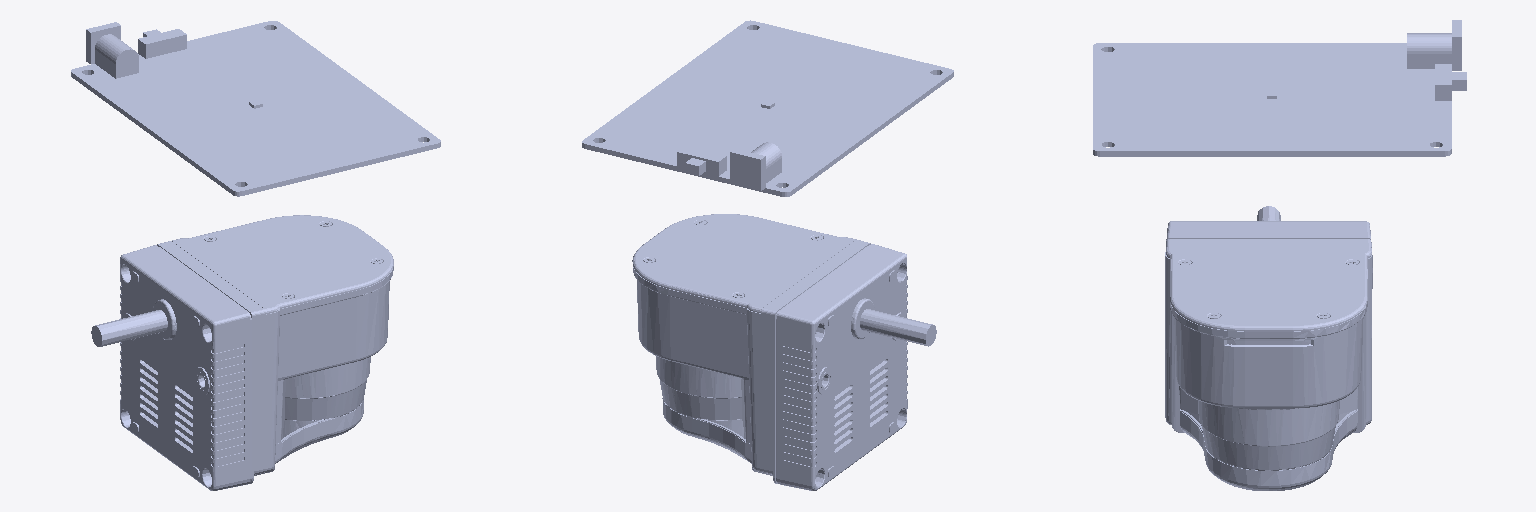
URDF robot description (srobot):
<robot
  name="srobot">
  <link
    name="base_link">
    <inertial>
      <origin
        xyz="-0.0862521575920466 1.57664490788578E-05 0.194624283901667"
        rpy="0 0 0" />
      <mass
        value="33.2741044624964" />
      <inertia
        ixx="1.54168237437275"
        ixy="8.41630492671114E-05"
        ixz="-0.0195161991959801"
        iyy="1.46715734443499"
        iyz="-3.81611683615727E-05"
        izz="0.61703616983001" />
    </inertial>
    <visual>
      <origin
        xyz="0 0 0"
        rpy="0 0 0" />
      <geometry>
        <mesh
          filename="package://srobot/meshes/base_link.STL" />
      </geometry>
      <material
        name="">
        <color
          rgba="0.752941176470588 0.752941176470588 0.752941176470588 1" />
      </material>
    </visual>
    <collision>
      <origin
        xyz="0 0 0"
        rpy="0 0 0" />
      <geometry>
        <mesh
          filename="package://srobot/meshes/base_link.STL" />
      </geometry>
    </collision>
  </link>
  <link
    name="base_scan">
    <inertial>
      <origin
        xyz="-0.0180076264461681 -9.1975517765297E-06 -0.00979838616911467"
        rpy="0 0 0" />
      <mass
        value="0.204546095137456" />
      <inertia
        ixx="1.80411577040283E-09"
        ixy="-2.92716590680799E-10"
        ixz="4.18096533096995E-10"
        iyy="1.68746981356662E-09"
        iyz="2.16004476187873E-10"
        izz="1.40520118912108E-09" />
    </inertial>
    <visual>
      <origin
        xyz="0 0 0"
        rpy="0 0 0" />
      <geometry>
        <mesh
          filename="package://srobot/meshes/base_scan.STL" />
      </geometry>
      <material
        name="">
        <color
          rgba="0.792156862745098 0.819607843137255 0.933333333333333 1" />
      </material>
    </visual>
    <collision>
      <origin
        xyz="0 0 0"
        rpy="0 0 0" />
      <geometry>
        <mesh
          filename="package://srobot/meshes/base_scan.STL" />
      </geometry>
    </collision>
  </link>
  <joint
    name="scan_joint"
    type="fixed">
    <origin
      xyz="0.1435 -0.001 -0.0109"
      rpy="3.1416 0 0" />
    <parent
      link="base_link" />
    <child
      link="base_scan" />
    <axis
      xyz="0 0 0" />
  </joint>
  <link
    name="imu_link">
    <inertial>
      <origin
        xyz="0.00562012085862895 0.00216740166295631 -0.000292591049908114"
        rpy="0 0 0" />
      <mass
        value="0.0150303013778878" />
      <inertia
        ixx="6.83280179880971E-07"
        ixy="-1.2832938740688E-06"
        ixz="-2.88988605151204E-07"
        iyy="2.5797993811447E-06"
        iyz="-1.45158034917182E-07"
        izz="3.19739448351713E-06" />
    </inertial>
    <visual>
      <origin
        xyz="0 0 0"
        rpy="0 0 0" />
      <geometry>
        <mesh
          filename="package://srobot/meshes/imu_link.STL" />
      </geometry>
      <material
        name="">
        <color
          rgba="0.792156862745098 0.819607843137255 0.933333333333333 1" />
      </material>
    </visual>
    <collision>
      <origin
        xyz="0 0 0"
        rpy="0 0 0" />
      <geometry>
        <mesh
          filename="package://srobot/meshes/imu_link.STL" />
      </geometry>
    </collision>
  </link>
  <joint
    name="imu_joint"
    type="fixed">
    <origin
      xyz="0.1265 0 0.0807"
      rpy="0 0 1.5708" />
    <parent
      link="base_link" />
    <child
      link="imu_link" />
    <axis
      xyz="0 0 0" />
  </joint>
  <link
    name="imu_frame" />
  <joint
    name="imuframe_joint"
    type="fixed">
    <origin
      xyz="0 0 0.068"
      rpy="0 0 0" />
    <parent
      link="base_link" />
    <child
      link="imu_frame" />
    <axis
      xyz="0 0 0" />
  </joint>
</robot>

--- Render facts (derived) ---
3 views of the same robot in one strip: view 1: azimuth 30°, elevation 25°; view 2: azimuth 150°, elevation 25°; view 3: azimuth 270°, elevation 25° (orthographic).
Model srobot with 4 links and 3 joints (3 fixed), rooted at base_link, posed every joint at zero.
Links seen in each view (by area): view 1: base_scan, imu_link; view 2: base_scan, imu_link; view 3: base_scan, imu_link.
Boxes of the visible links, box(x1,y1,x2,y2) form: base_scan: box(91, 215, 393, 490); imu_link: box(71, 21, 440, 196); base_scan: box(632, 214, 936, 490); imu_link: box(582, 20, 953, 196); base_scan: box(1165, 206, 1372, 490); imu_link: box(1093, 20, 1466, 156).
Size in the robot's own frame: 0.1002 by 0.1095 by 0.1257 metres.
Meshes: 3 distinct files referenced, 2 mesh visuals loaded (2 binary STL); not drawn: 1 (reference not matched to a file when rendering).